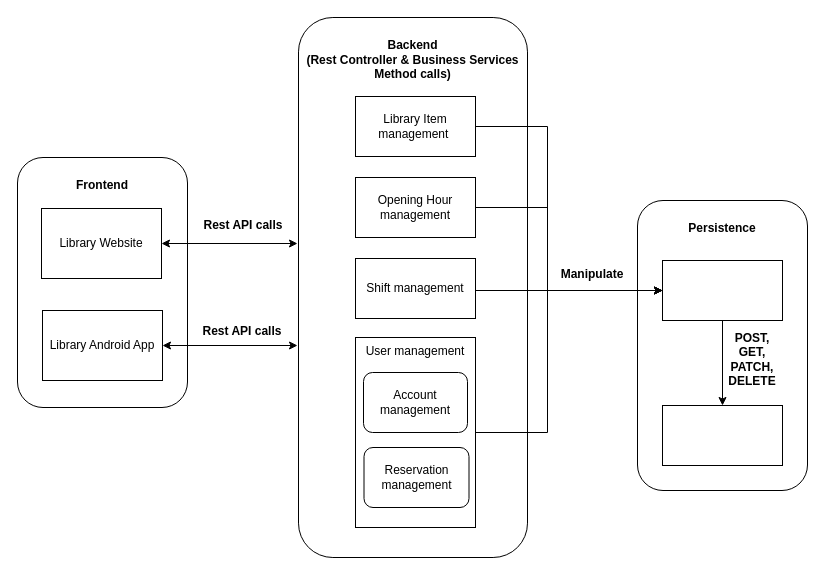
This 825x575 diagram has some shape labels left out. Each missing label, with the centre of its shape:
Business entries: point (722, 290)
Heroku Database: point (722, 435)
